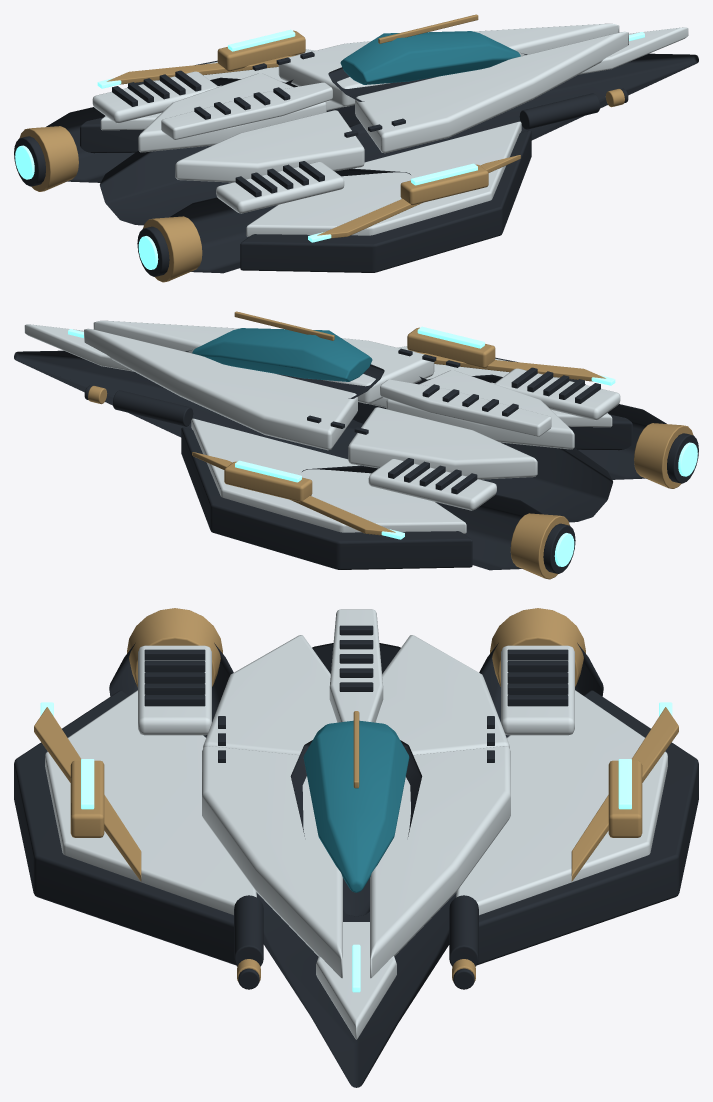
File: guardian-v2.glb
3 renders of one model, top to bottom at view 1: azimuth 30°, elevation 25°; view 2: azimuth 150°, elevation 25°; view 3: azimuth 270°, elevation 25°, orthographic. The views are drawn at different scales.
Visible parts, largest first — view 1: forward shoulder armour, independent wing ceramic, continuous pressure hull, swept wing subframe, aft shoulder armour, smoked laminated canopy, forward shoulder armour.001, aft shoulder armour.001, engine armoured nacelle, dorsal spine, nacelle ceramic cap, nacelle ceramic cap.001 (+19 smaller); view 2: forward shoulder armour.001, independent wing ceramic.001, continuous pressure hull, swept wing subframe.001, aft shoulder armour.001, smoked laminated canopy, forward shoulder armour, aft shoulder armour, engine armoured nacelle.001, dorsal spine, nacelle ceramic cap.001, nacelle ceramic cap (+19 smaller); view 3: independent wing ceramic, independent wing ceramic.001, forward shoulder armour.001, forward shoulder armour, swept wing subframe, swept wing subframe.001, smoked laminated canopy, continuous pressure hull, aft shoulder armour, aft shoulder armour.001, nose sensor ceramic, dorsal spine (+23 smaller).
Part boxes in pixels (<box>): forward shoulder armour: <box>355,31,628,153</box>; independent wing ceramic: <box>246,121,521,236</box>; continuous pressure hull: <box>100,53,698,225</box>; swept wing subframe: <box>240,130,531,272</box>; aft shoulder armour: <box>175,110,364,182</box>; smoked laminated canopy: <box>340,31,520,84</box>; forward shoulder armour.001: <box>278,23,619,106</box>; aft shoulder armour.001: <box>138,73,326,152</box>; engine armoured nacelle: <box>169,168,410,273</box>; dorsal spine: <box>161,82,332,139</box>; nacelle ceramic cap: <box>216,162,344,213</box>; nacelle ceramic cap.001: <box>92,71,218,123</box>; forward shoulder armour.001: <box>84,328,357,450</box>; independent wing ceramic.001: <box>191,418,466,533</box>; continuous pressure hull: <box>14,350,612,522</box>; swept wing subframe.001: <box>181,427,472,569</box>; aft shoulder armour.001: <box>348,407,537,479</box>; smoked laminated canopy: <box>192,328,372,381</box>; forward shoulder armour: <box>93,320,434,403</box>; aft shoulder armour: <box>386,370,574,449</box>; engine armoured nacelle.001: <box>302,465,543,570</box>; dorsal spine: <box>380,379,551,436</box>; nacelle ceramic cap.001: <box>368,459,496,510</box>; nacelle ceramic cap: <box>494,368,620,420</box>; independent wing ceramic: <box>45,690,256,915</box>; independent wing ceramic.001: <box>456,690,667,915</box>; forward shoulder armour.001: <box>370,746,510,978</box>; forward shoulder armour: <box>202,746,342,978</box>; swept wing subframe: <box>14,690,235,965</box>; swept wing subframe.001: <box>477,690,698,965</box>; smoked laminated canopy: <box>303,720,409,892</box>; continuous pressure hull: <box>256,643,456,1087</box>; aft shoulder armour: <box>203,635,337,754</box>; aft shoulder armour.001: <box>375,635,509,754</box>; nose sensor ceramic: <box>316,922,396,1039</box>; dorsal spine: <box>329,609,383,722</box>.
Bounding box in the file's own units: 155 × 34.6 × 102.
